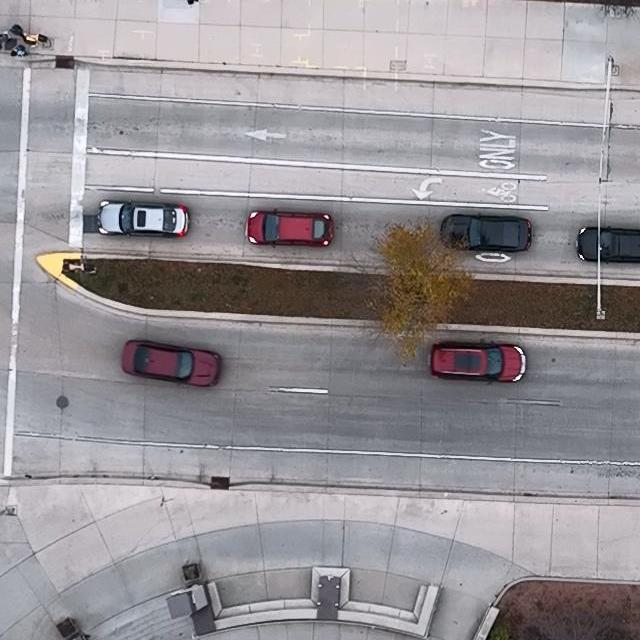car: (120, 338, 224, 388), (428, 338, 527, 383), (439, 209, 534, 254), (96, 200, 189, 237), (246, 210, 333, 249), (577, 224, 640, 263)
